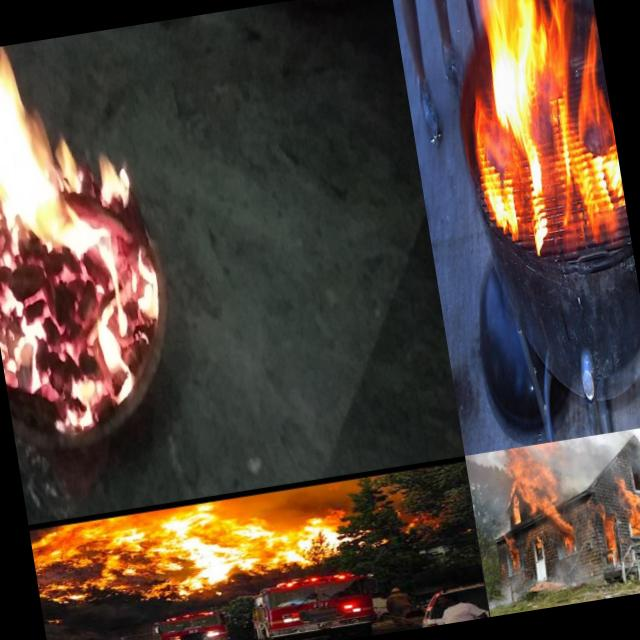fire: (0, 29, 174, 456), (452, 0, 630, 254), (30, 482, 352, 614), (502, 443, 558, 513), (538, 501, 578, 556), (592, 504, 620, 564), (617, 479, 640, 537), (501, 533, 523, 575), (510, 510, 524, 527)
smoke: (548, 434, 616, 499), (466, 450, 514, 540), (546, 547, 604, 594), (484, 573, 529, 608), (619, 428, 640, 481)
